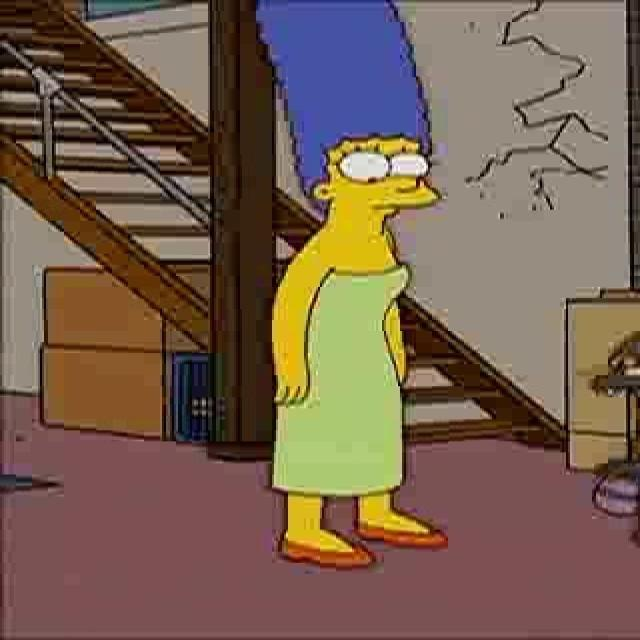Marge Simpson: (257, 4, 443, 242)
